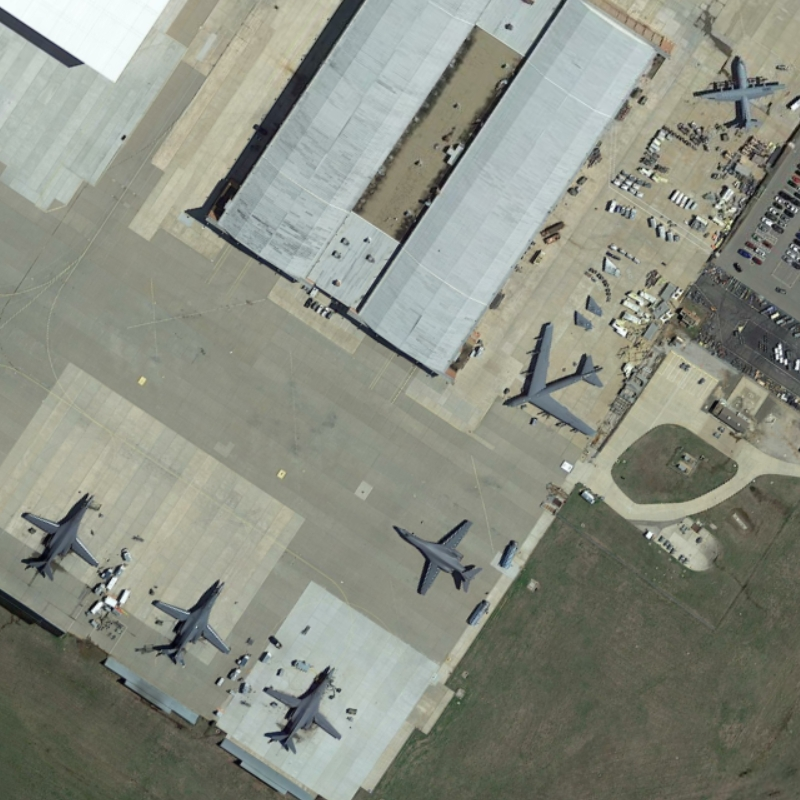A10: (252, 655, 350, 763), (143, 569, 237, 671), (15, 488, 104, 582), (389, 516, 487, 600)
A2: (688, 48, 797, 144)
A8: (493, 310, 615, 450)
